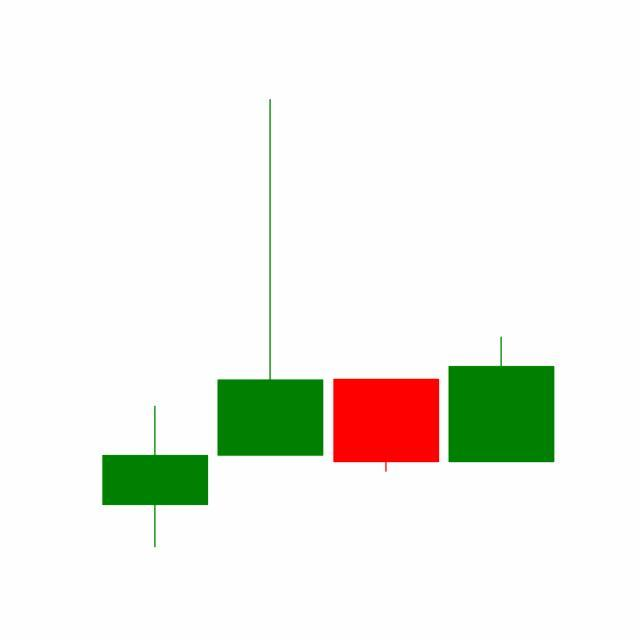Marubozu: (329, 378, 445, 473)
